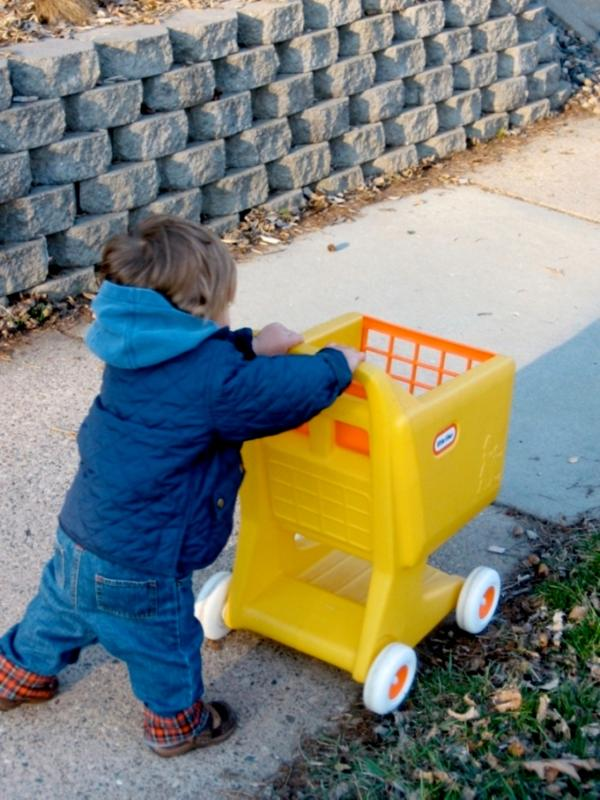person: (4, 212, 362, 759)
